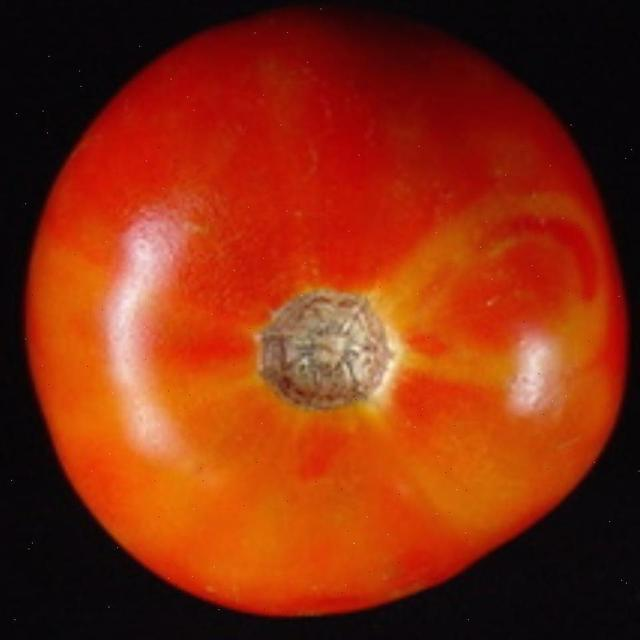Spotted wilt Virus Fruit: (126, 203, 427, 588)
